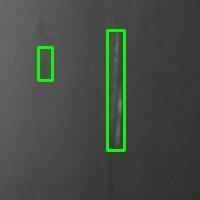inclusion: (38, 47, 52, 80)
scratches: (107, 30, 124, 150)
